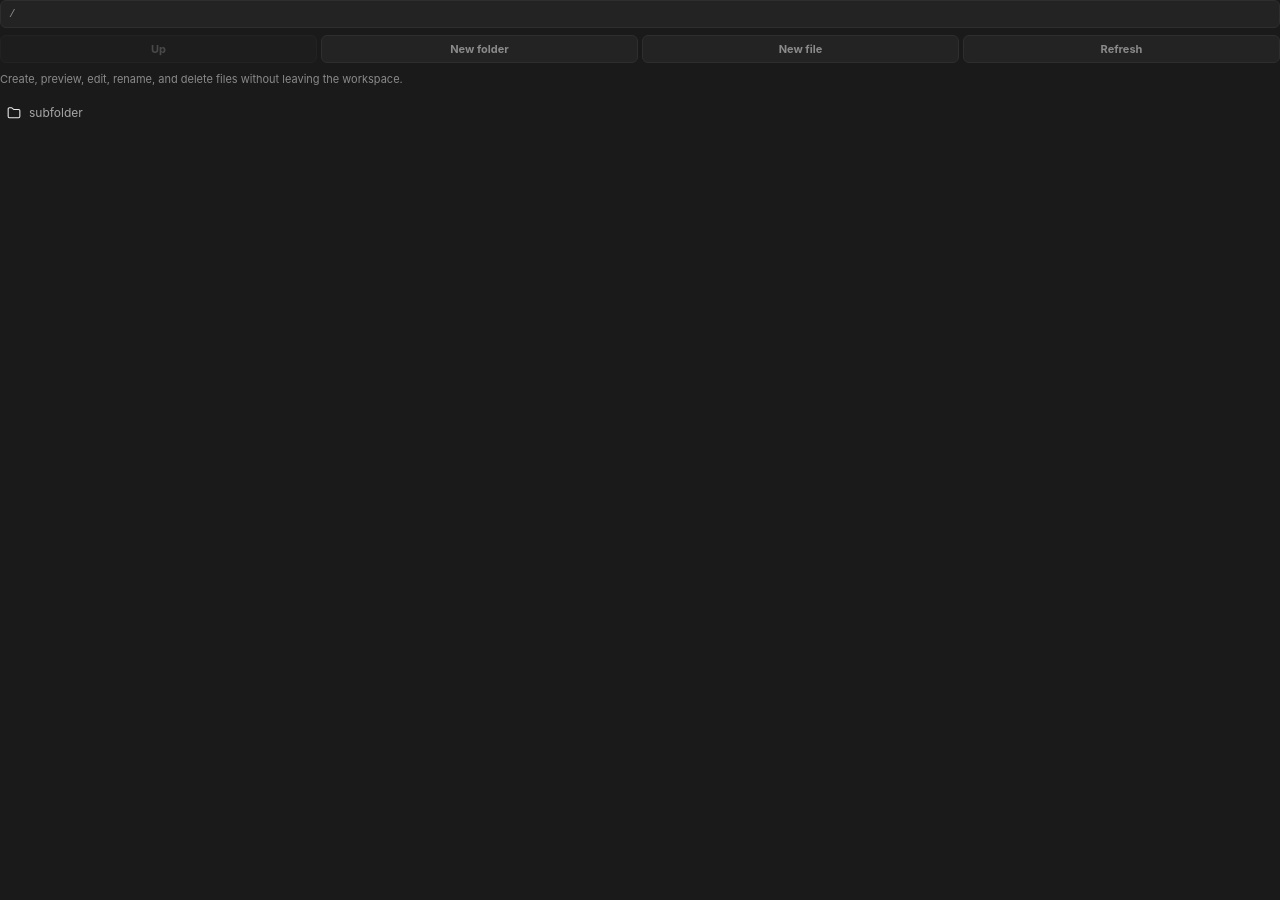
Test: WorkspaceFilePanel - Error Clearing on Success › should clear error when navigating into folder succeeds after previous error
Expected: the text "subfolder" is shown, [29,105,83,120]
Click the button "New folder": (480, 49) [321,35,638,63]
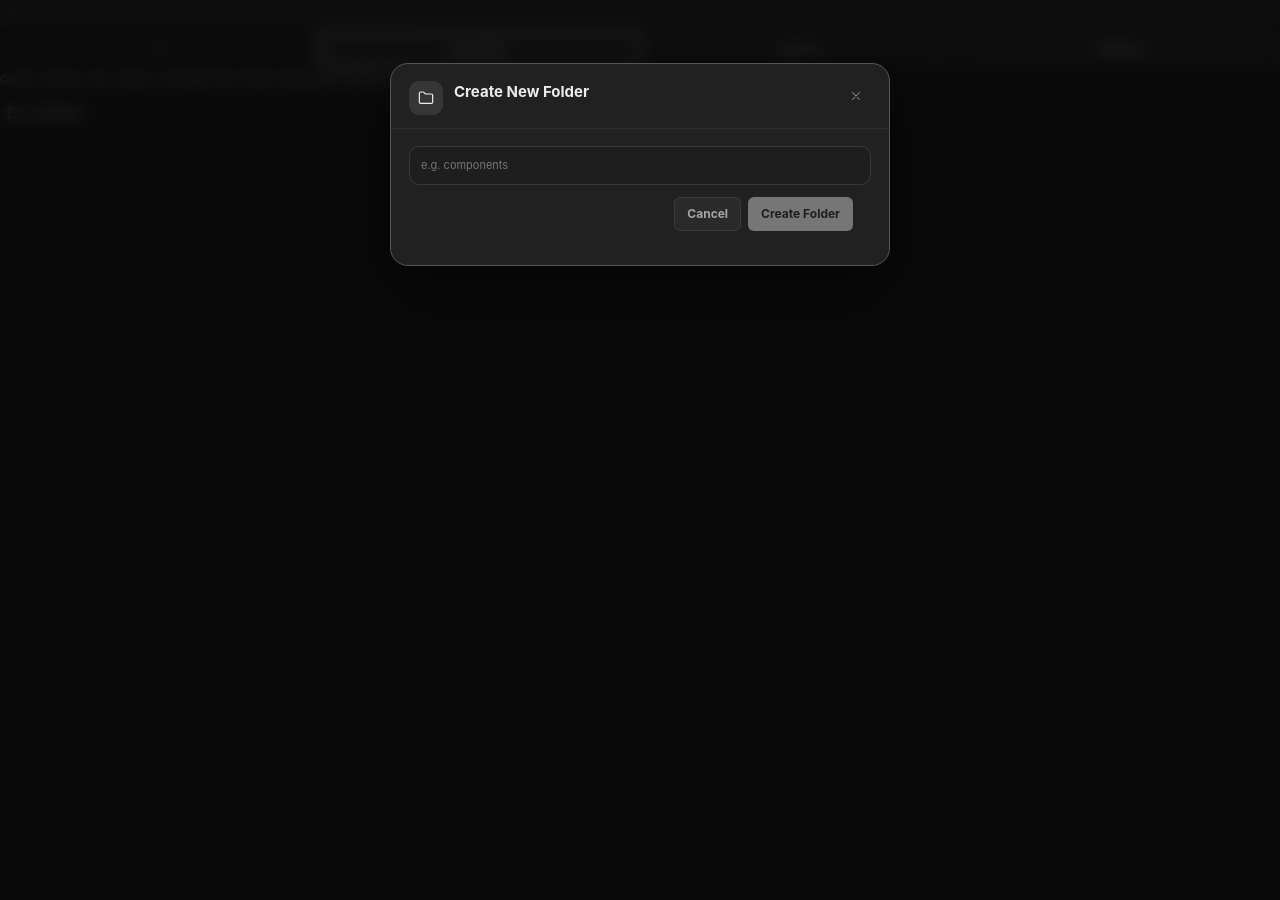
In the field: (640, 166) [409,146,871,185], type "test"
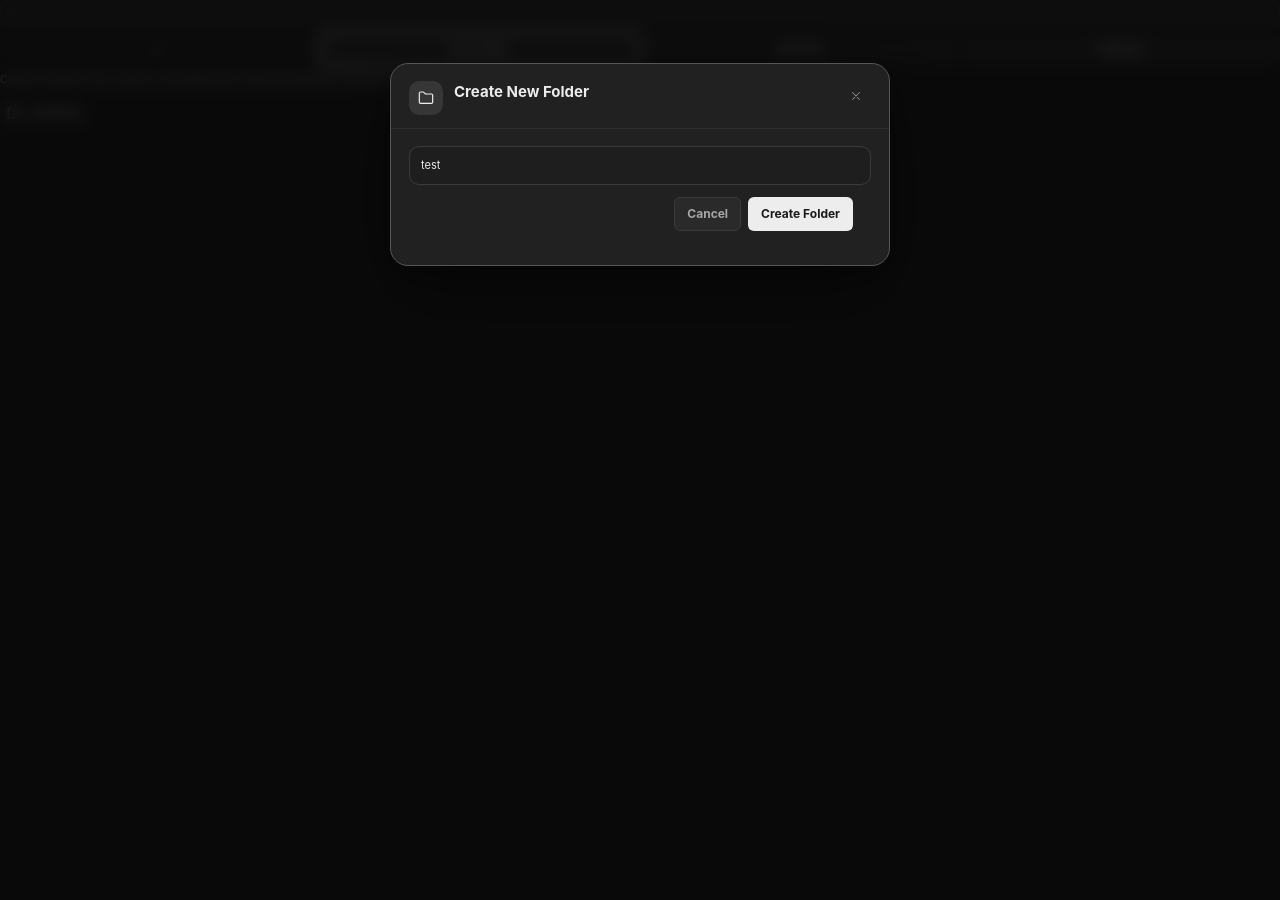
Click the button "Create Folder": (801, 214) [748,197,853,231]
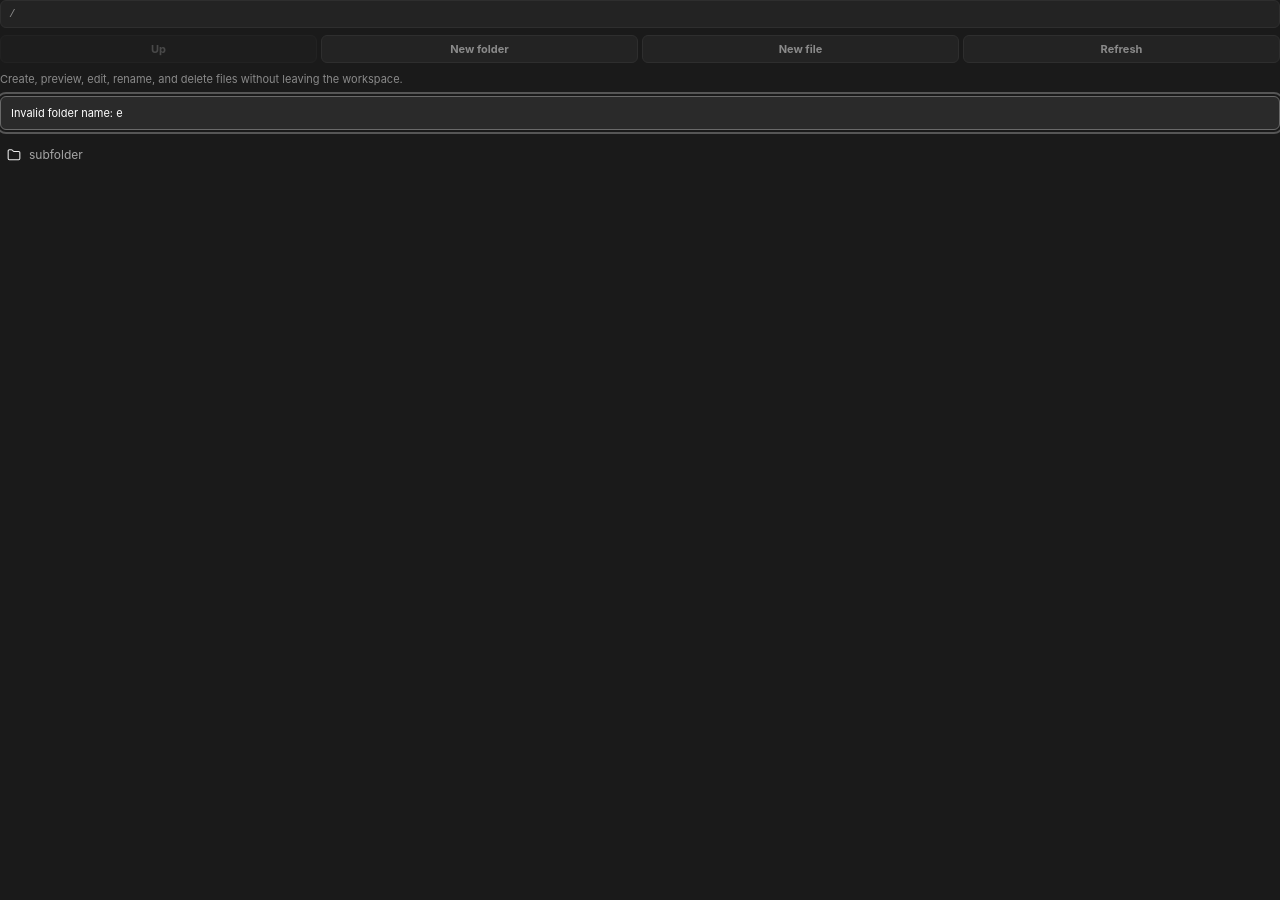
Result: the text "Invalid folder name: e" is shown at [0,96,1279,130]
Click the button "subfolder": (56, 155) [0,138,1279,172]
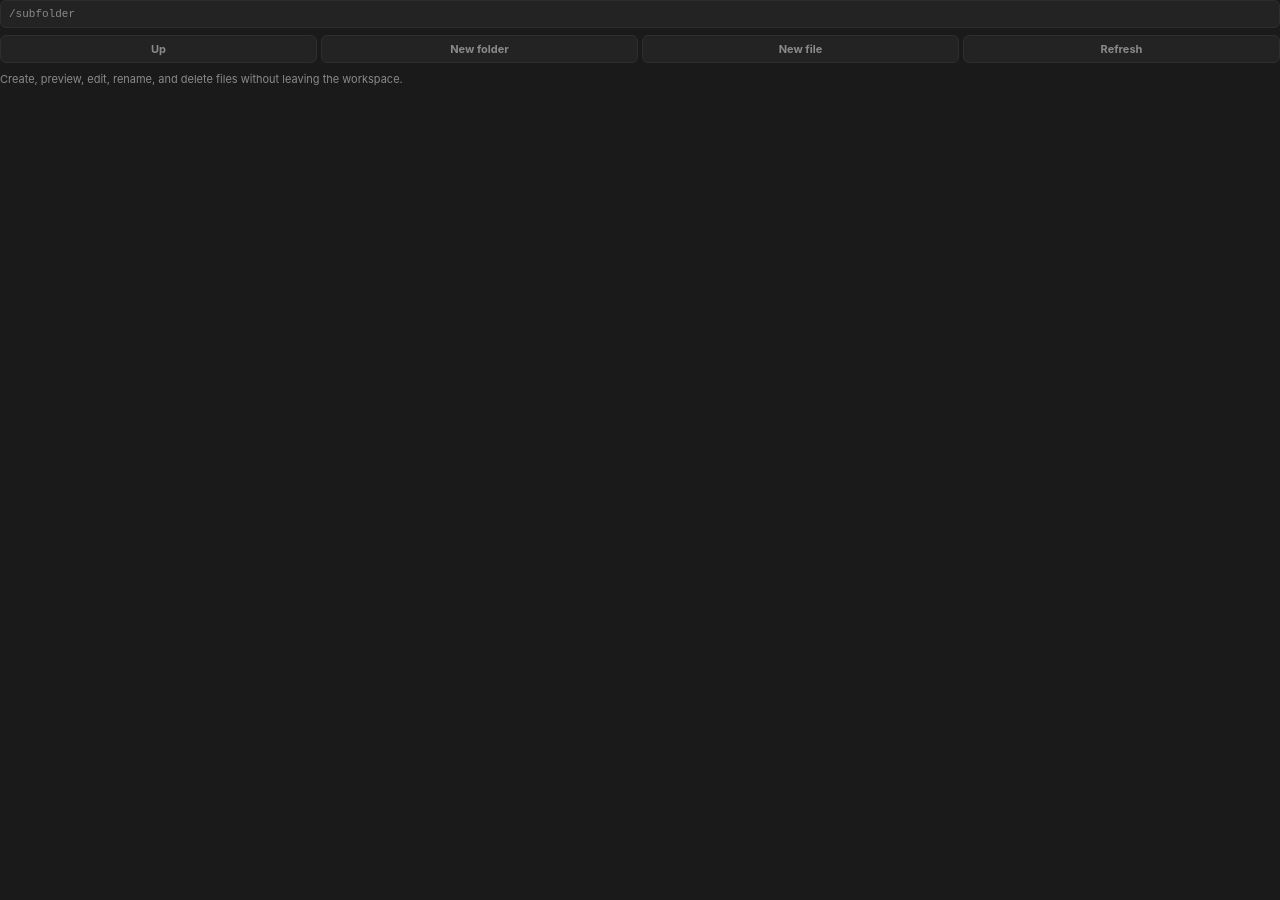
Result: the text "Invalid folder name" is gone
